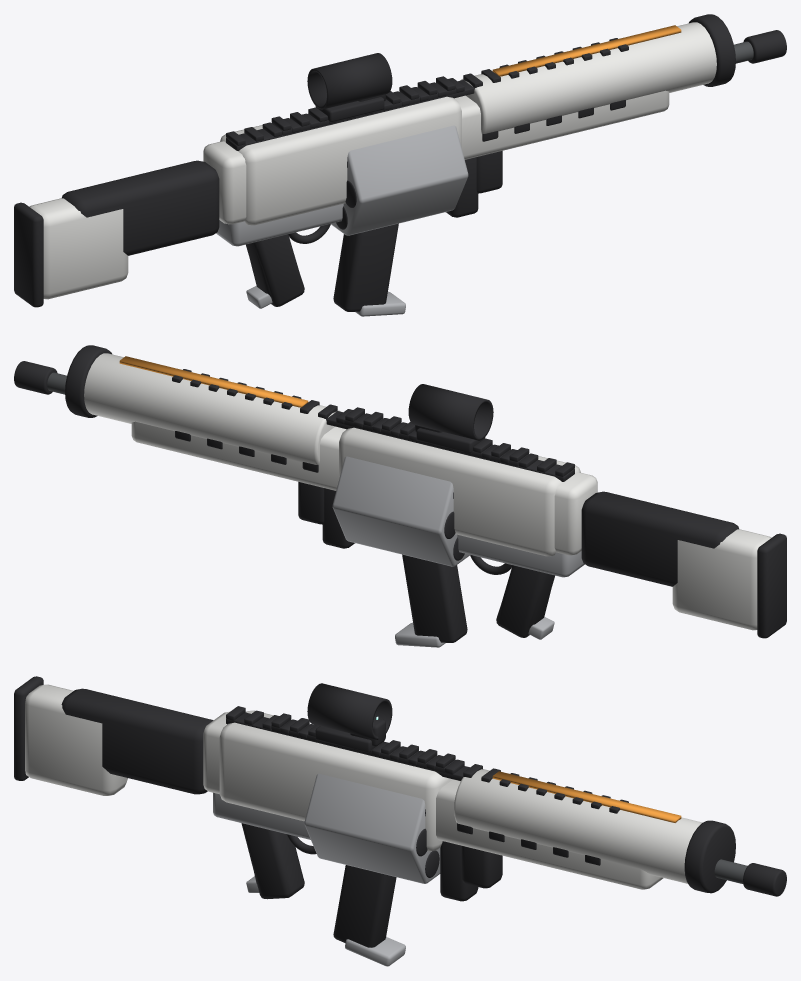
Rendered from weapons.glb.
3 views of the same model, one above another, from view 1: azimuth 30°, elevation 25°; view 2: azimuth 150°, elevation 25°; view 3: azimuth 330°, elevation 25° (orthographic).
Visible parts, largest first — view 1: W_Launcher_Mesh, W_Rifle_Mesh, W_Pistol_Mesh; view 2: W_Launcher_Mesh, W_Rifle_Mesh, W_Pistol_Mesh; view 3: W_Launcher_Mesh, W_Rifle_Mesh.
Part boxes in pixels (x1,y1,x2,y2): W_Launcher_Mesh: (62, 14, 735, 306); W_Rifle_Mesh: (14, 30, 786, 316); W_Pistol_Mesh: (246, 244, 272, 308); W_Launcher_Mesh: (65, 345, 738, 637); W_Rifle_Mesh: (14, 361, 786, 647); W_Pistol_Mesh: (528, 575, 554, 639); W_Launcher_Mesh: (61, 688, 735, 899); W_Rifle_Mesh: (14, 676, 786, 966).
Bounding box in the file's own units: 0.8305 × 0.2697 × 0.1084.
